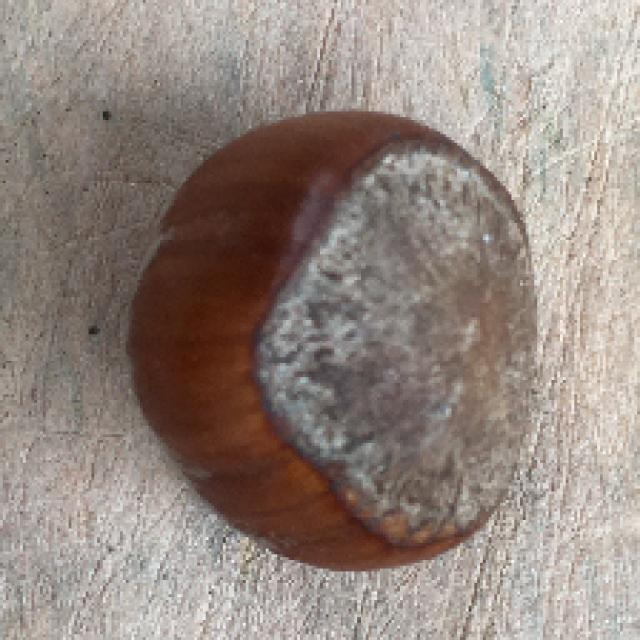qualityHazelnut: (119, 101, 547, 576)
